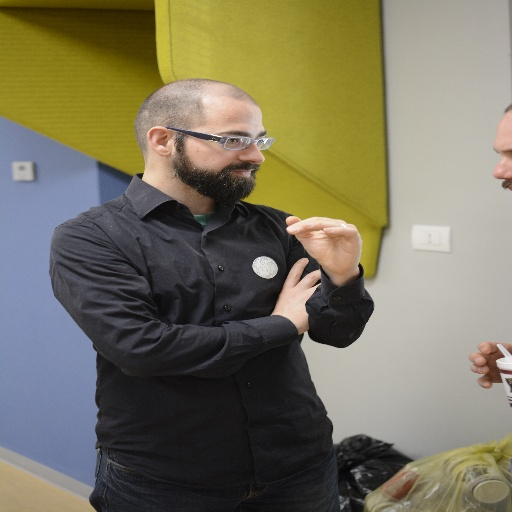hand: (282, 213, 365, 279), (268, 256, 327, 336), (467, 339, 511, 389)
